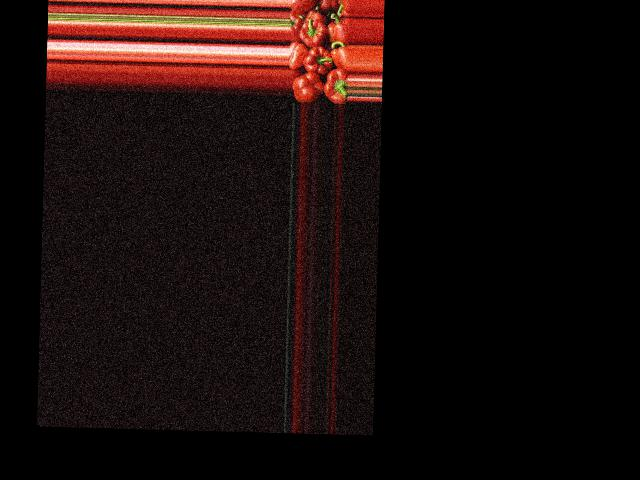bell_pepper: (289, 42, 306, 70)
